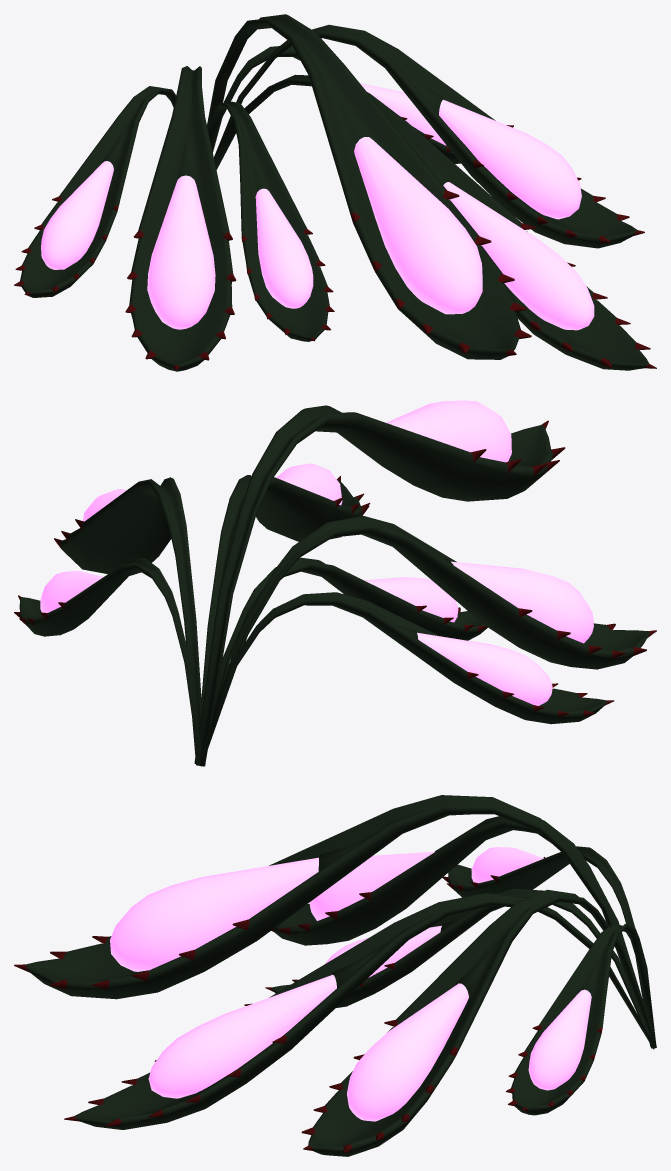
The model's file is Plant_06_LP_merged.fbx.
3 views of the same model, one above another, from view 1: azimuth 30°, elevation 25°; view 2: azimuth 150°, elevation 25°; view 3: azimuth 270°, elevation 25° (orthographic). The views are drawn at different scales.
Visible parts, largest first — view 1: Plant_06_LP_merged; view 2: Plant_06_LP_merged; view 3: Plant_06_LP_merged.
Part boxes in pixels (x1,y1,x2,y2): Plant_06_LP_merged: [14, 14, 656, 371]; Plant_06_LP_merged: [14, 400, 656, 766]; Plant_06_LP_merged: [14, 795, 656, 1156].
Bounding box in the file's own units: 382 × 383 × 167.
